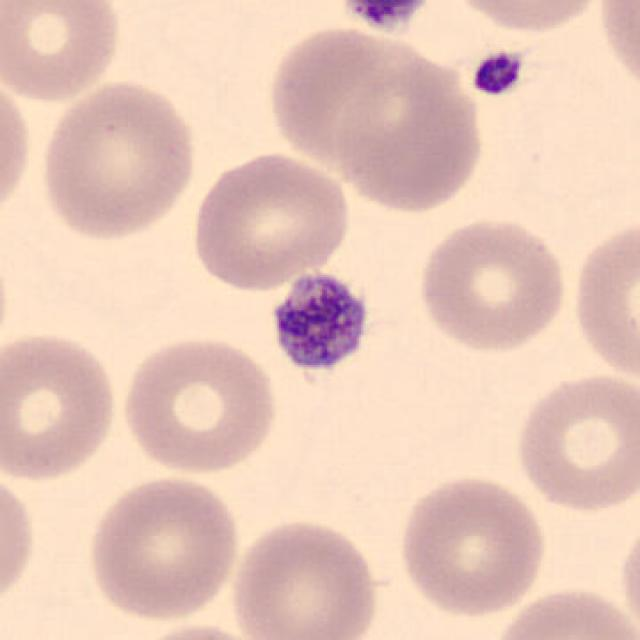Platelets: (265, 266, 375, 383), (339, 0, 435, 33), (469, 48, 526, 98)
RBC: (263, 18, 462, 182), (35, 76, 201, 243), (331, 42, 489, 217), (186, 146, 354, 293), (115, 331, 282, 478), (84, 471, 244, 624), (393, 470, 549, 620), (412, 212, 572, 356), (226, 513, 386, 640), (0, 326, 123, 487), (510, 368, 638, 516), (0, 0, 124, 106), (567, 211, 640, 388), (489, 582, 638, 640), (443, 0, 613, 37), (0, 460, 39, 615), (0, 71, 36, 229), (594, 0, 640, 100), (615, 510, 640, 638), (120, 620, 277, 640)
